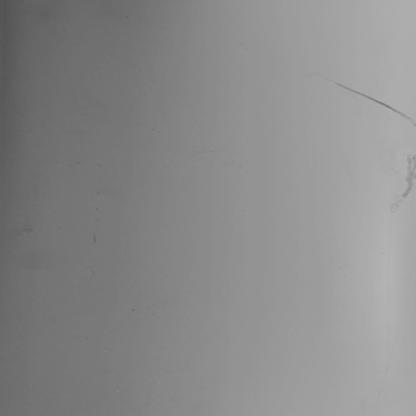sunshang: (331, 79, 415, 126), (395, 152, 416, 209)
